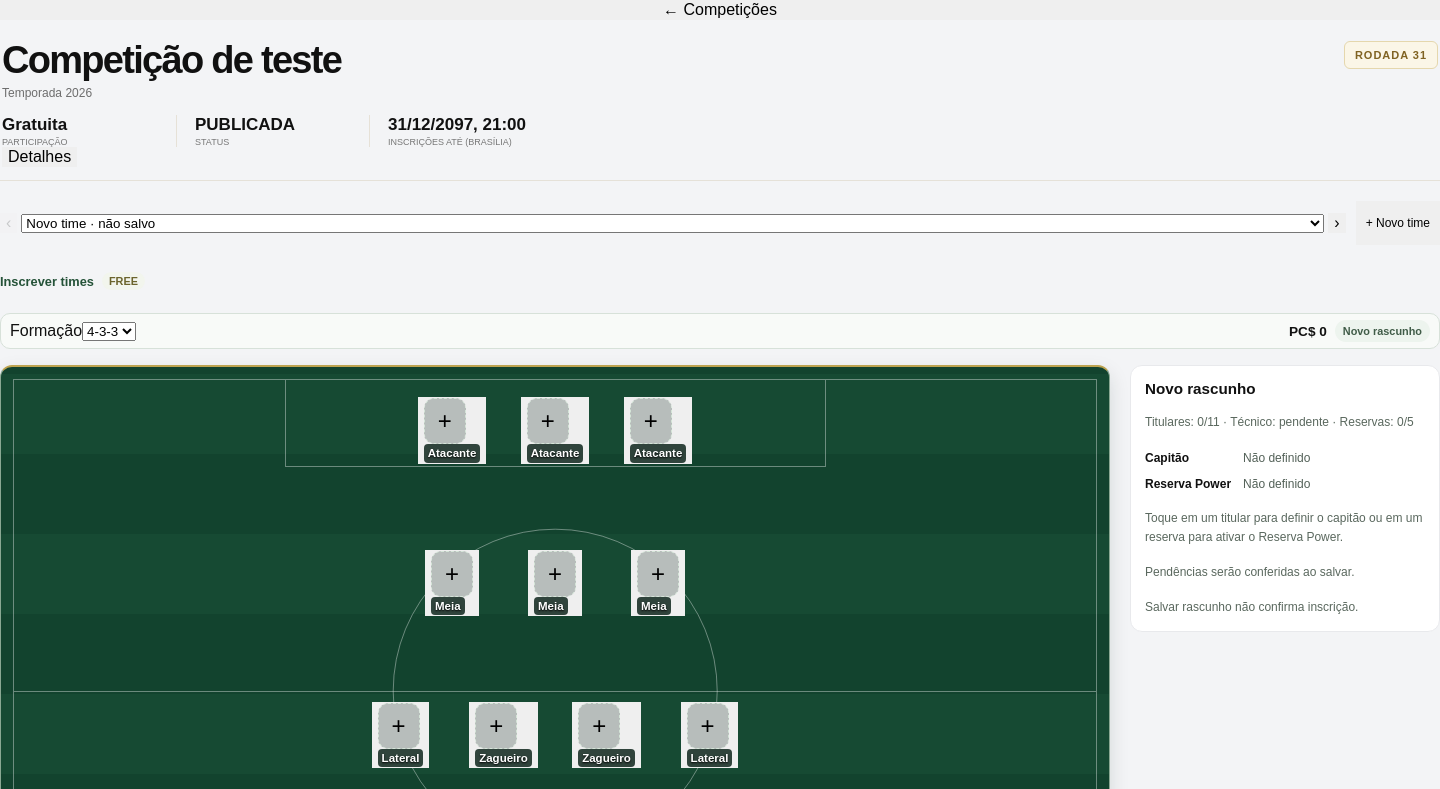
Test case: FREE registration in the real editor › confirms the selected batch, refreshes states and keeps confirmed teams read only
This screenshot has width=1440, height=789.
Click the heading "Inscrever times FREE" at (72, 281), box [0, 272, 145, 290]
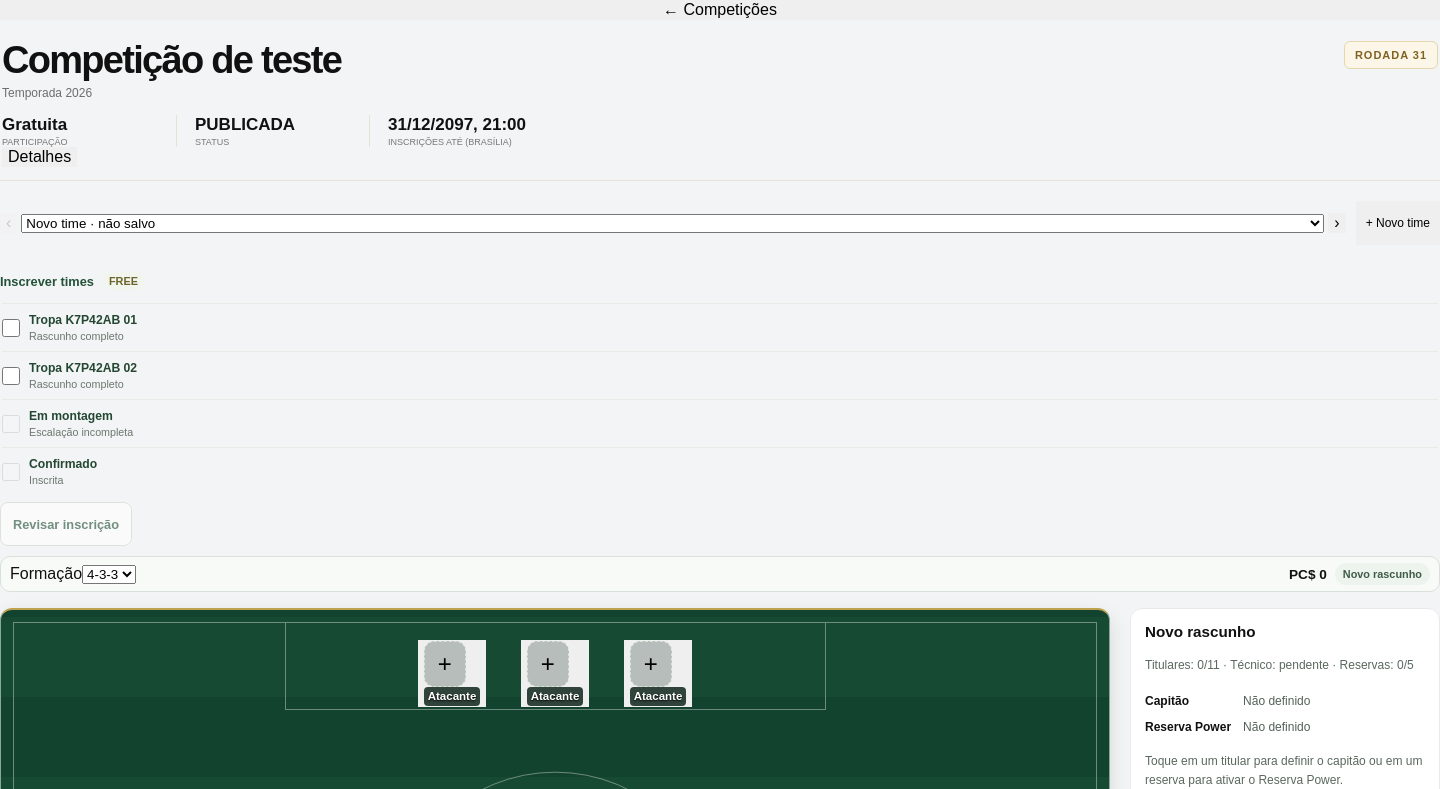
Click the checkbox labelled "Tropa K7P42AB 01 Rascunho completo" at (11, 328), box [2, 319, 20, 337]
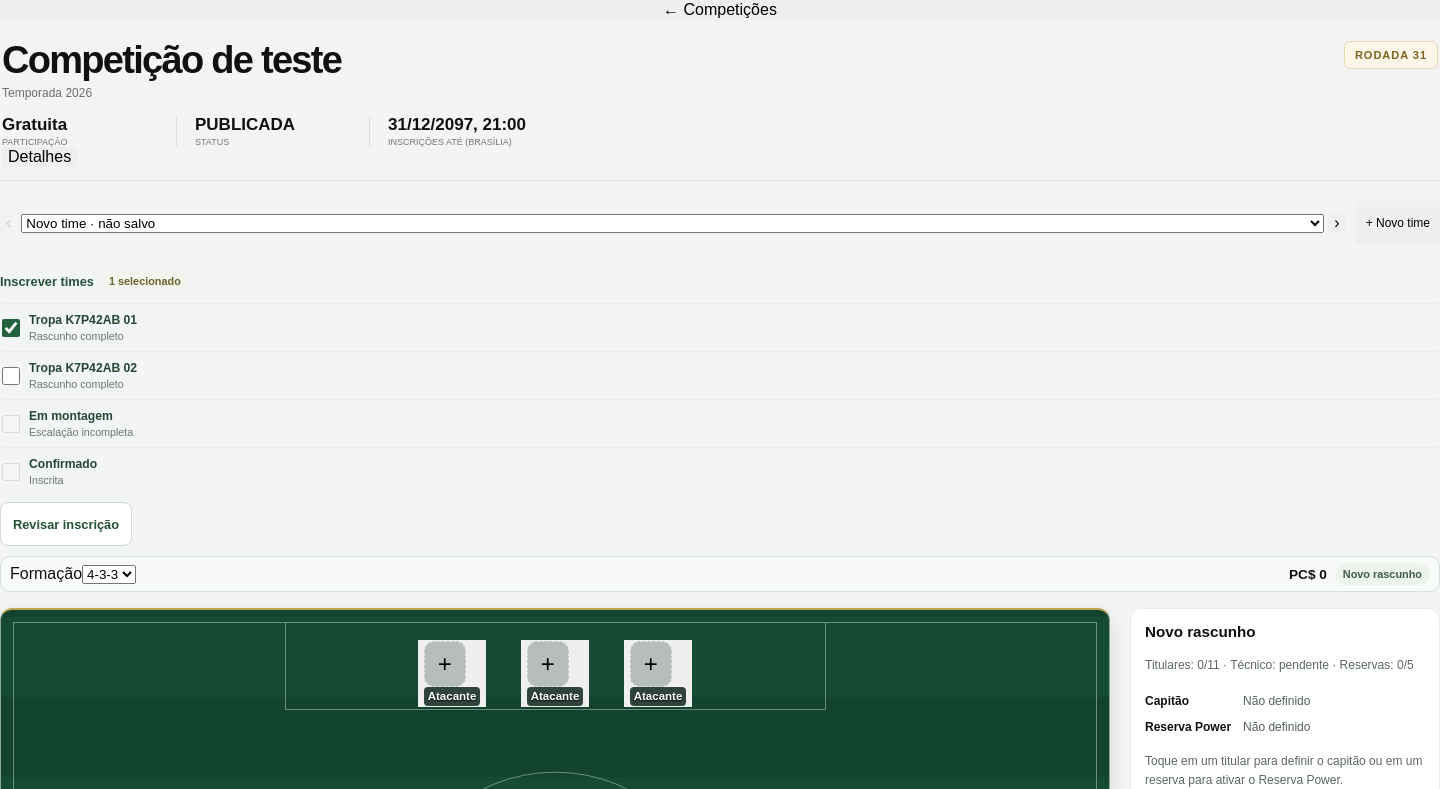
Click the button "Revisar inscrição" at (66, 524), box [0, 502, 132, 546]
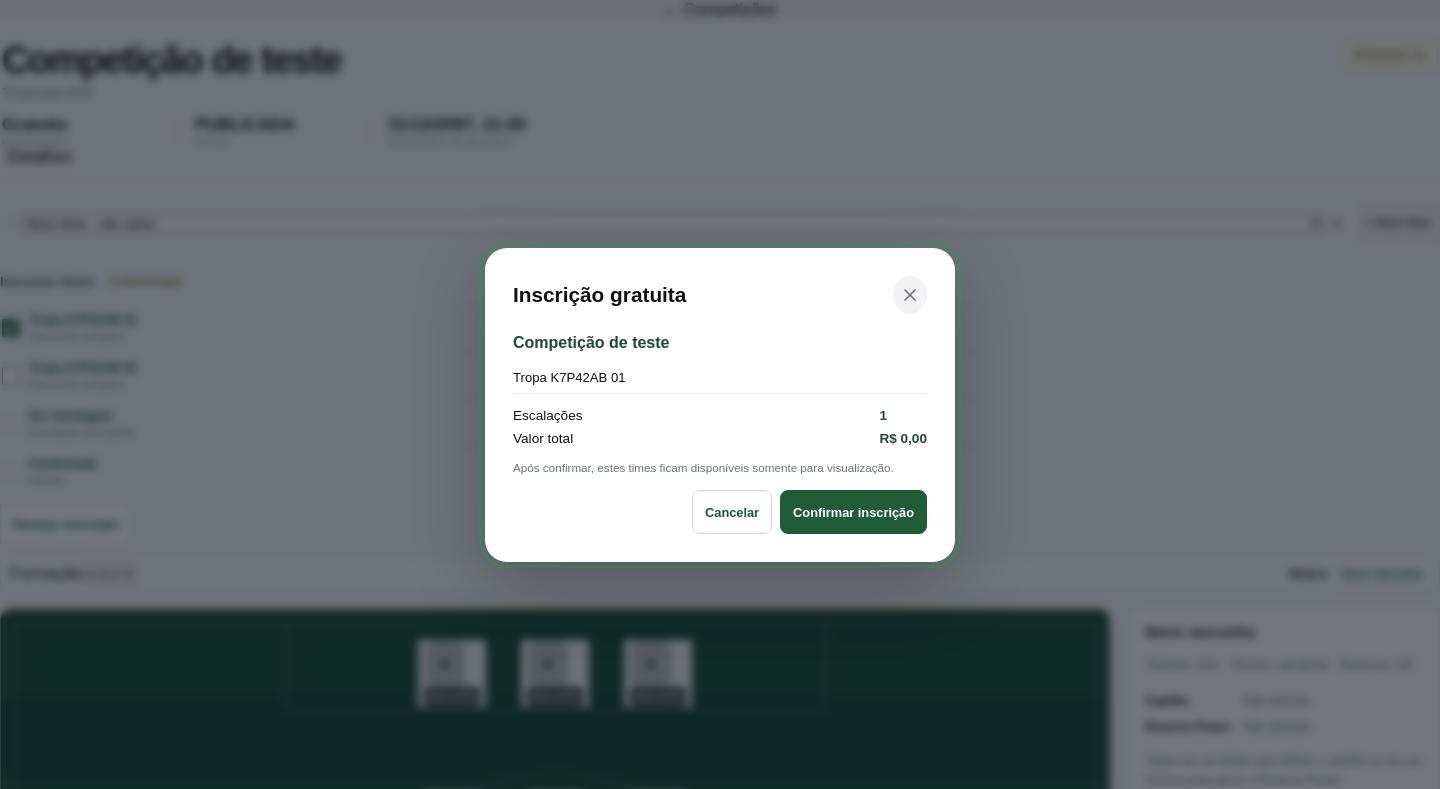
Click the button "Confirmar inscrição" at (854, 512), box [780, 490, 927, 534]
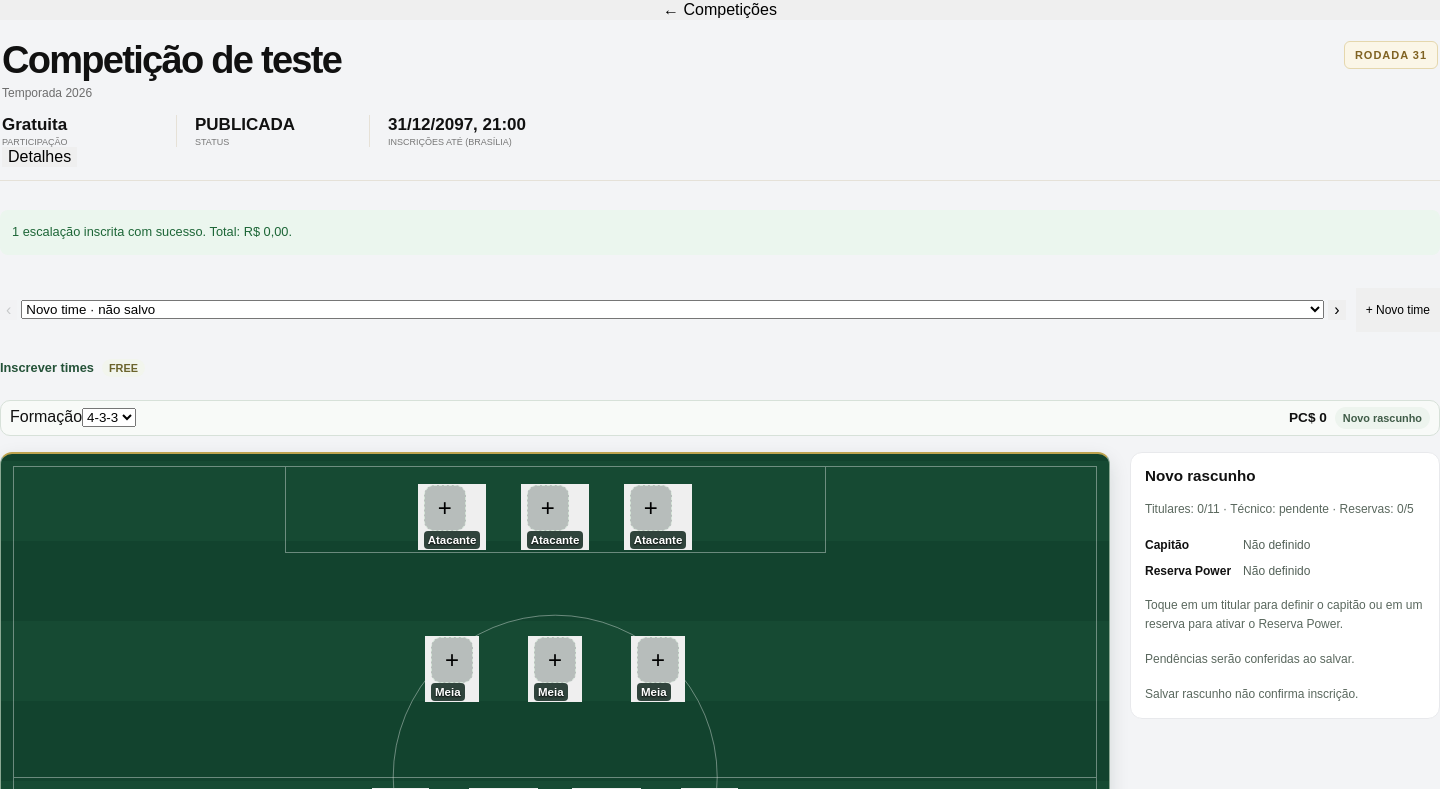
Expected: the text "1 escalação inscrita com sucesso. Total: R$ 0,00." is shown, [0, 210, 1439, 255]
Select "Tropa K7P42AB 01 · Inscrita" in the dropdown named "Time em edição" at (673, 310), box [21, 300, 1324, 319]
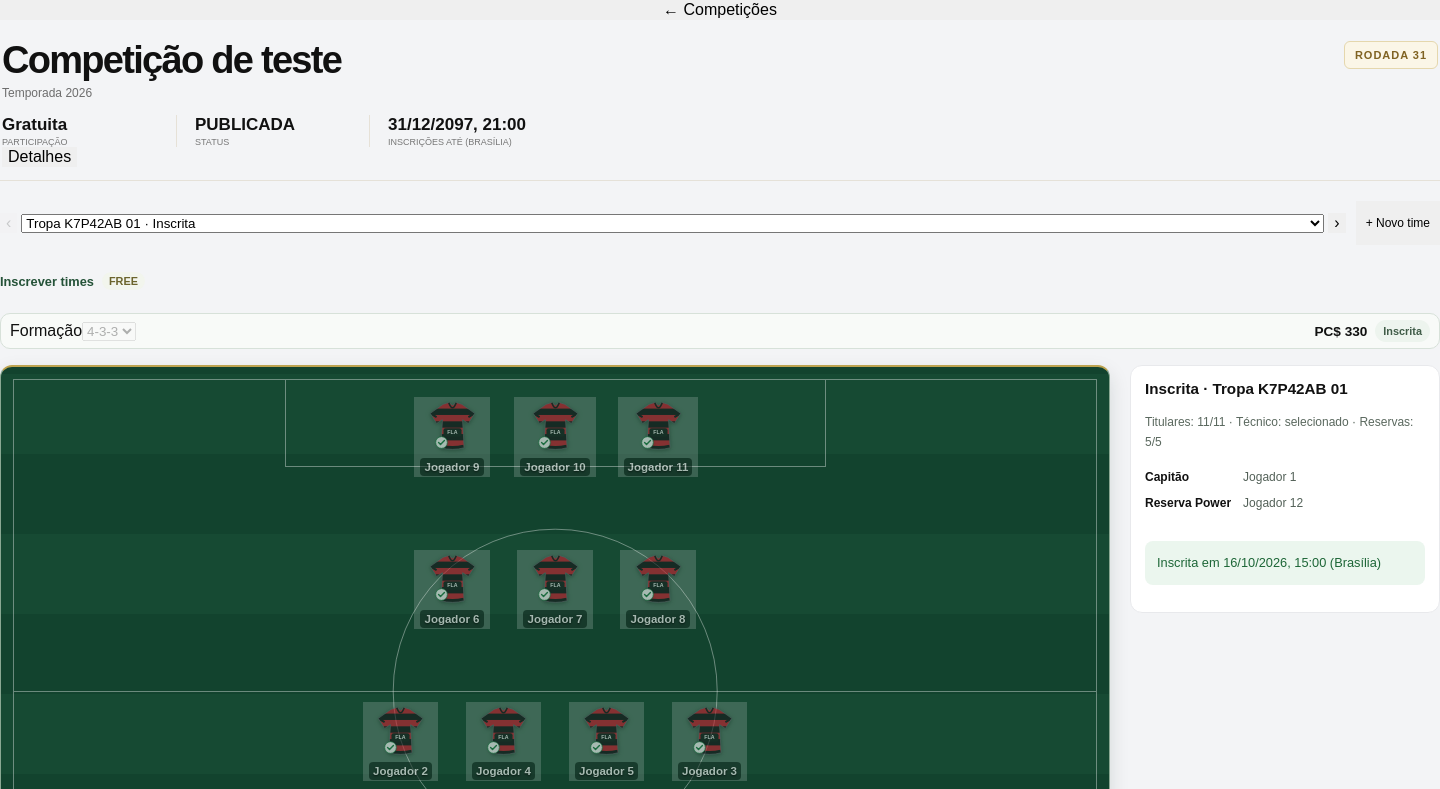
Expected: the text "Inscrita em 16/10/2026, 15:00 (Brasília)" is shown, [1145, 541, 1425, 585]
Expected: the text "Salvar rascunho" is gone
Expected: the dropdown named "Formação tática" is disabled, [82, 322, 136, 341]
